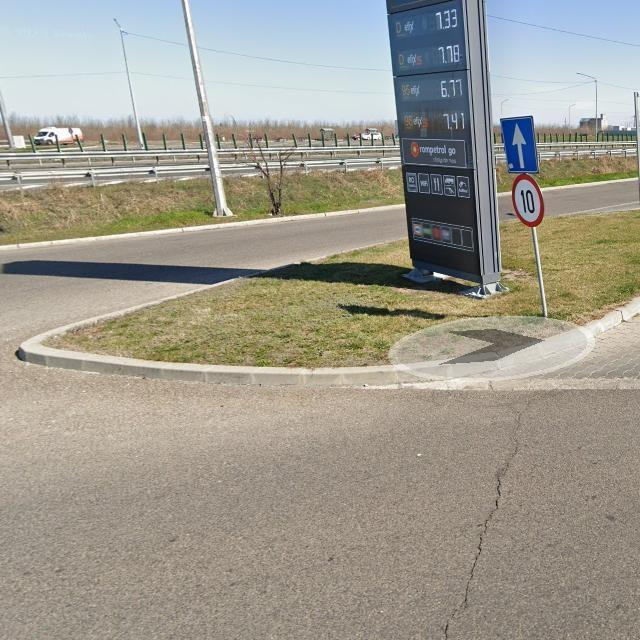forb_speed_over_10: (512, 175, 545, 228)
